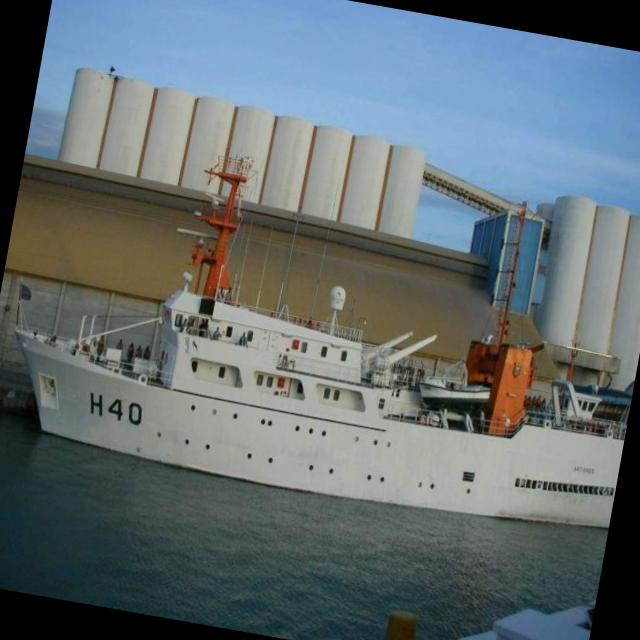Military: (14, 155, 626, 527)
